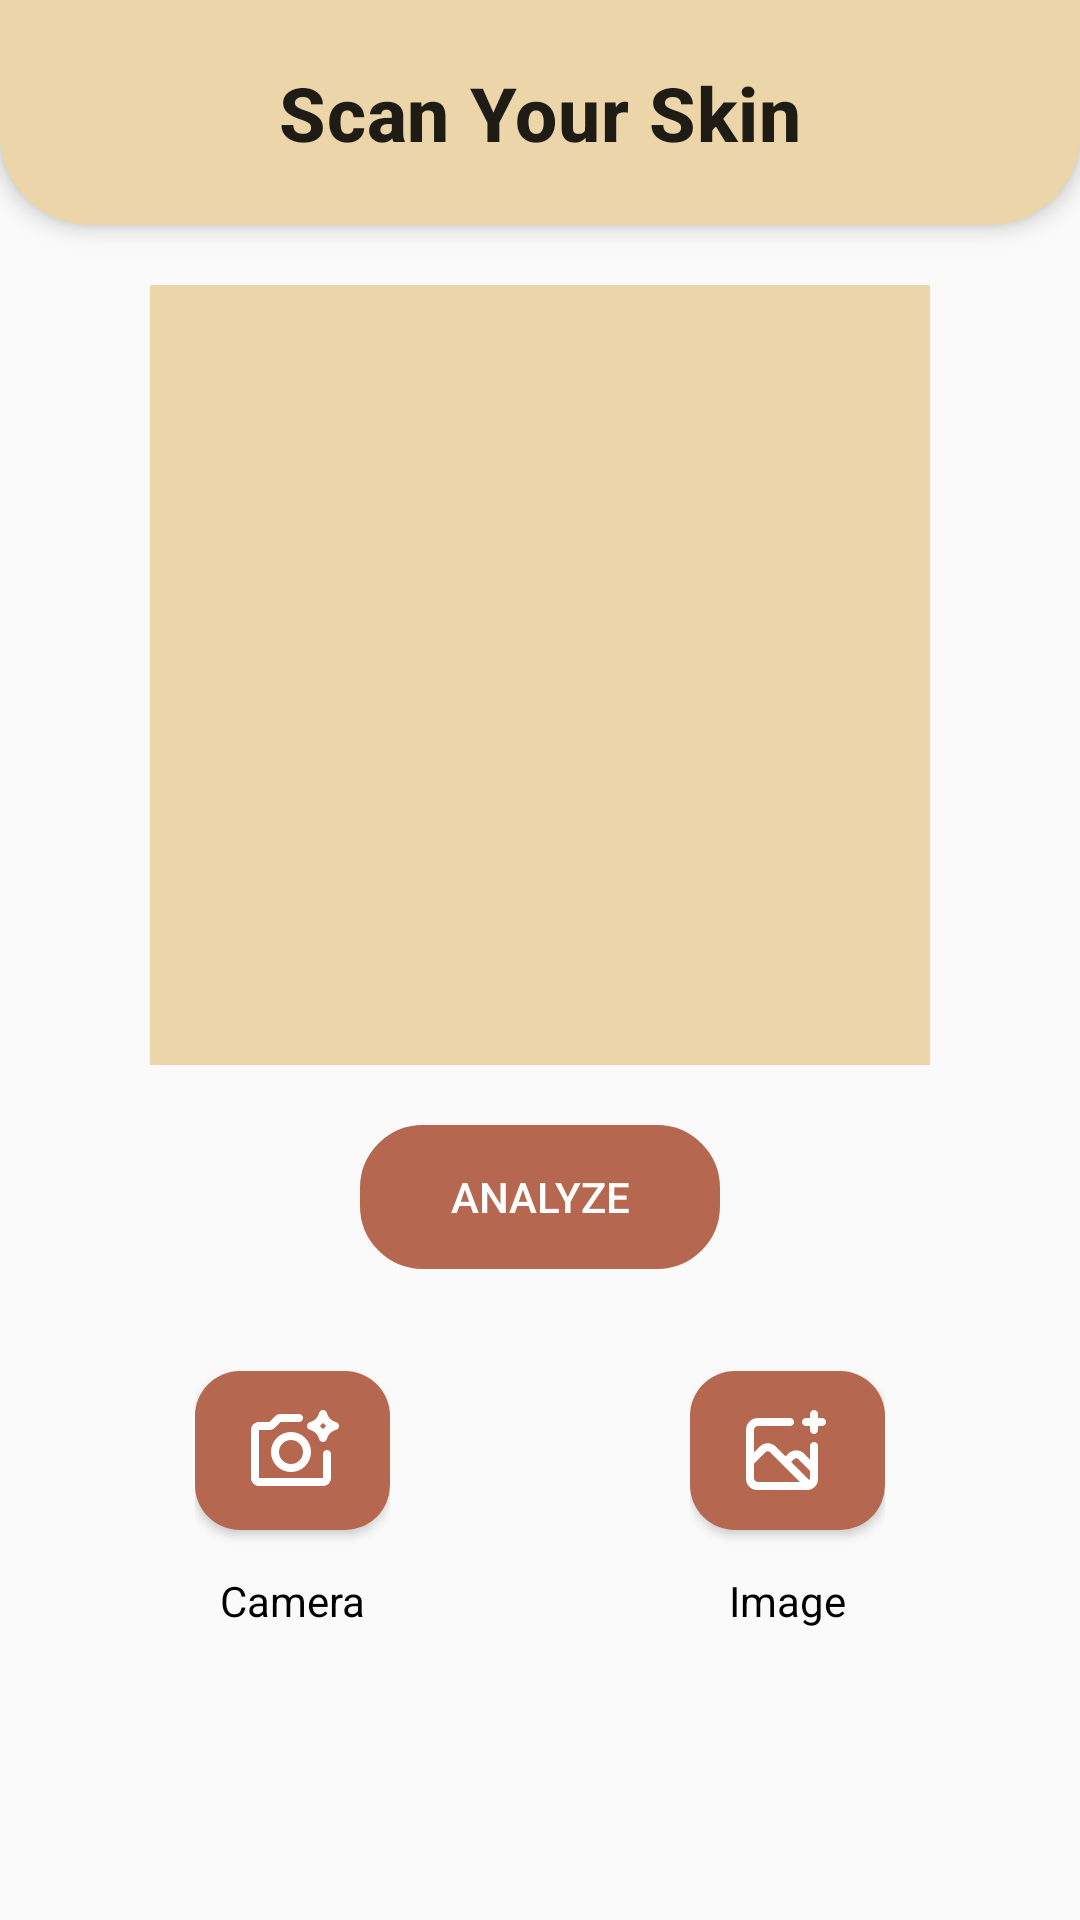

Screen size 1080px x 1920px. Icon name, then its center in pixels as [x,y]:
galery: [787,1452]
